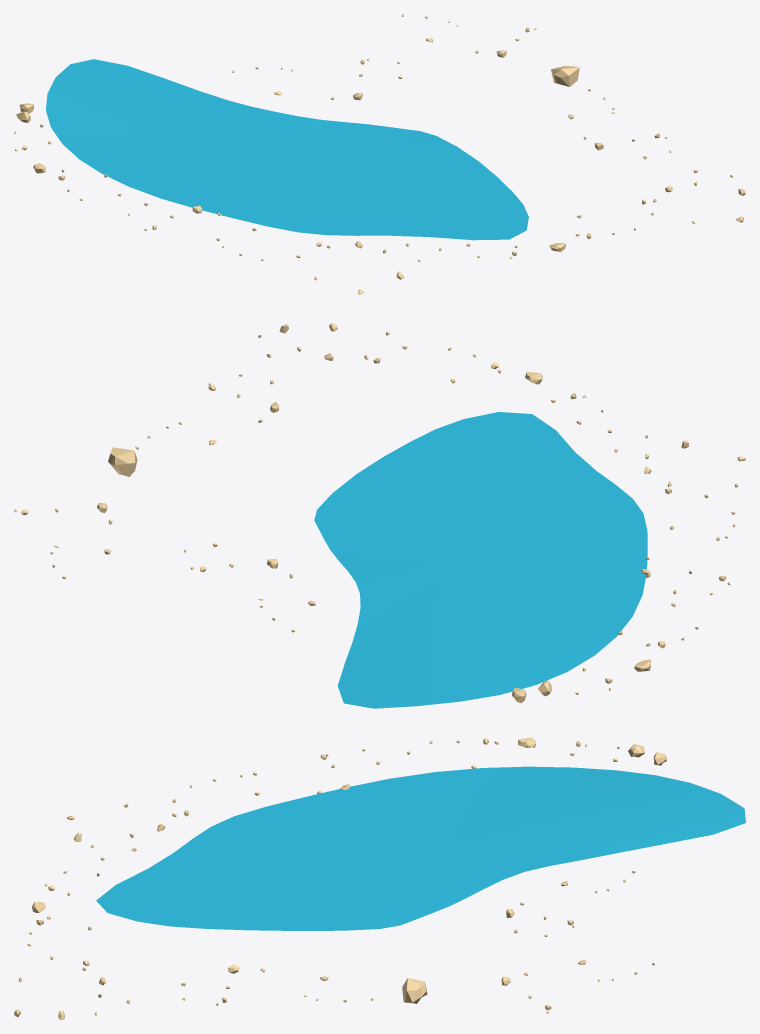
File: noColls.glb
The picture shows the model from 3 angles, top to bottom: view 1: azimuth 30°, elevation 25°; view 2: azimuth 150°, elevation 25°; view 3: azimuth 270°, elevation 25°; orthographic projection. The views are drawn at different scales.
Visible parts, largest first — view 1: water, piedras; view 2: water, piedras; view 3: water, piedras.
Boxes of the visible parts, bbox=[...] form: water: bbox=[46, 59, 528, 240]; piedras: bbox=[14, 14, 745, 294]; water: bbox=[314, 412, 647, 708]; piedras: bbox=[14, 323, 745, 703]; water: bbox=[96, 766, 745, 930]; piedras: bbox=[14, 737, 666, 1019].
Size of the model in its own units: 35.64 by 2.09 by 38.76.
2 materials, 1 textured.
